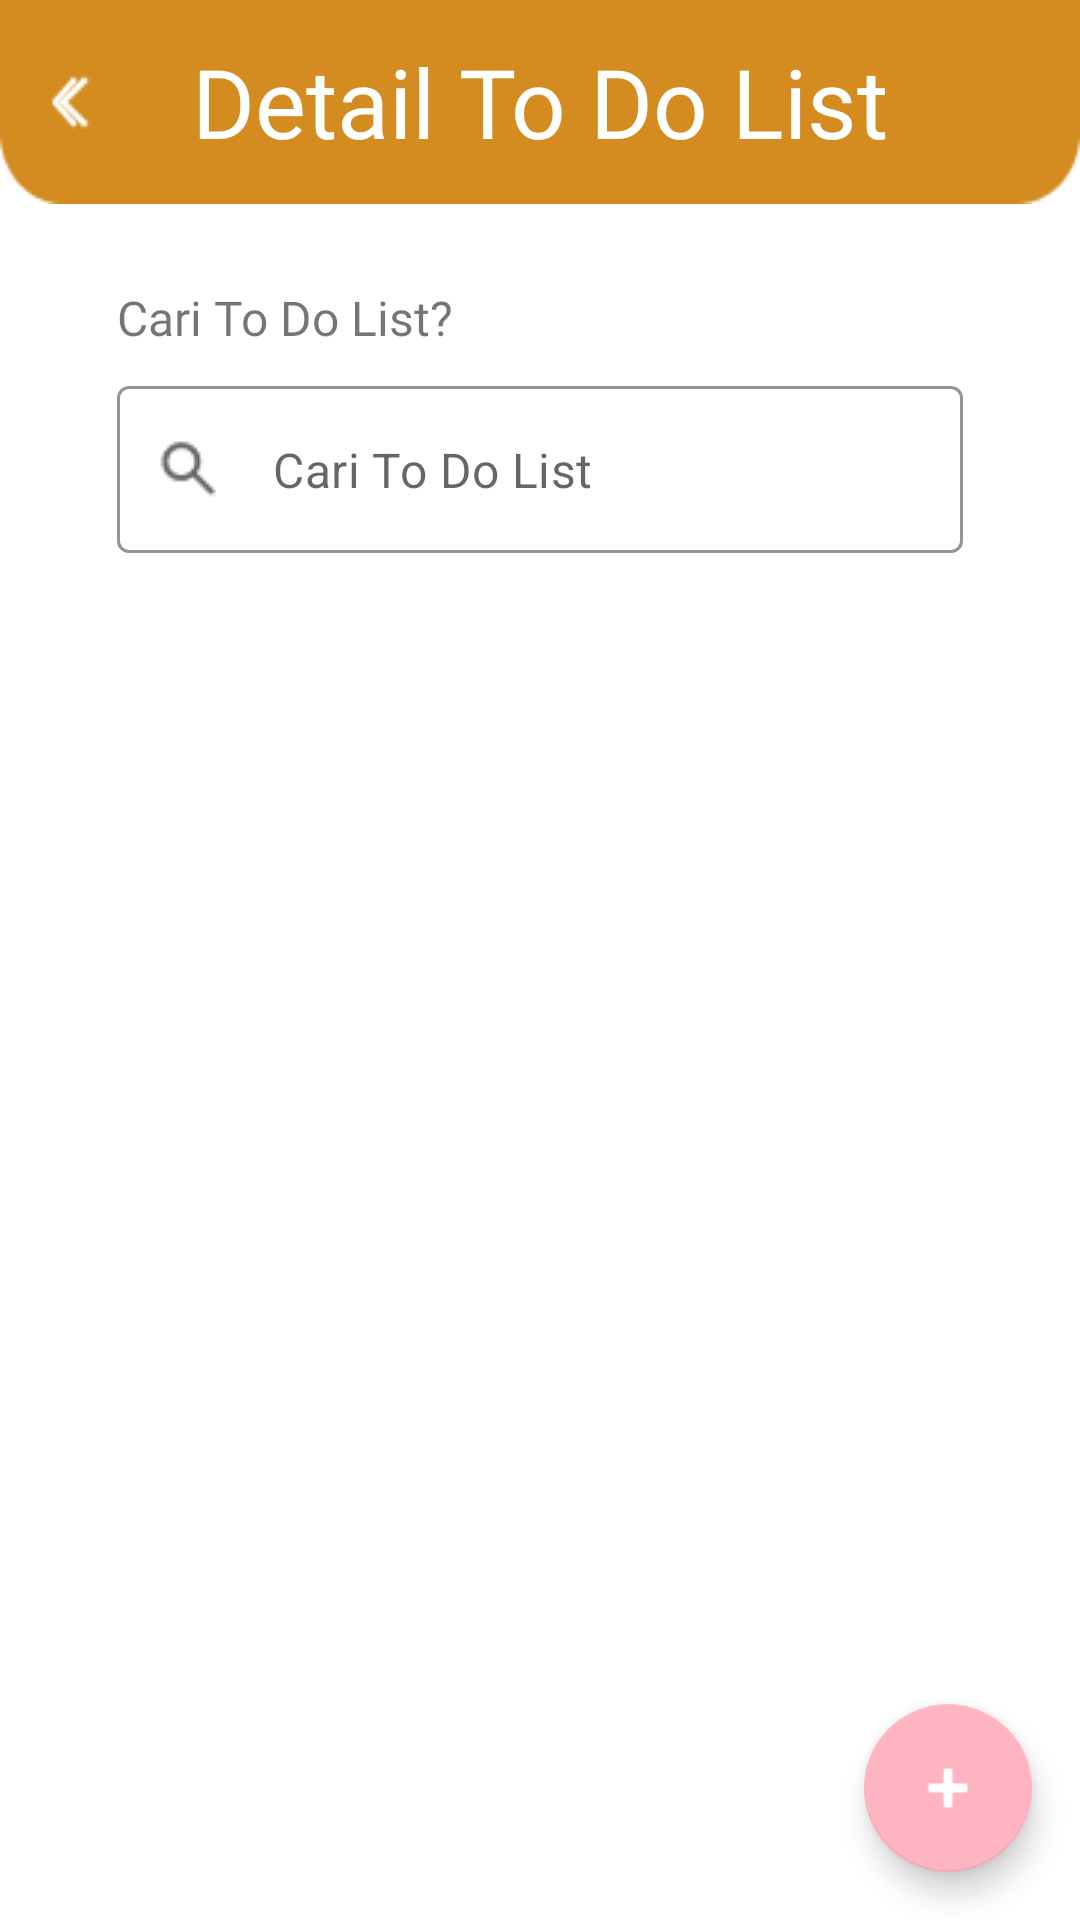

Point at icon controls on the screen. Image size 1080px x 1920px, points as (x,y).
add: (948,1788)
arrow back: (75,102)
